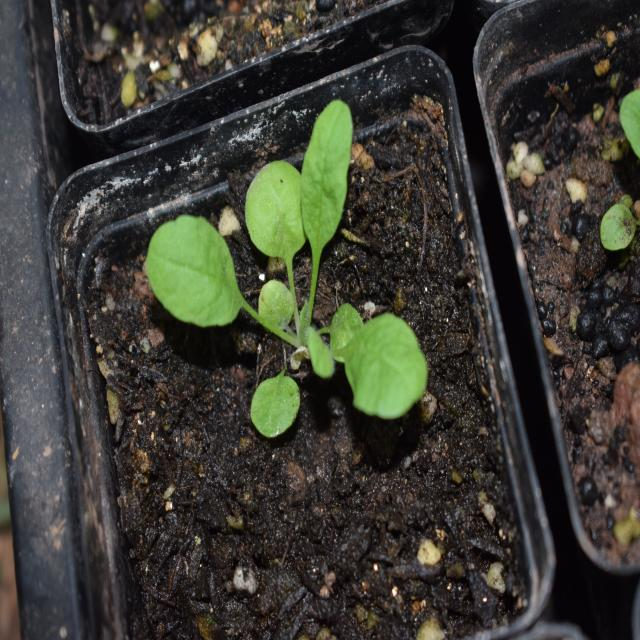Shepherd_Purse: (146, 110, 424, 450)
